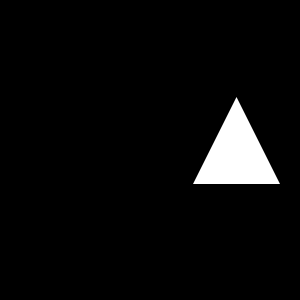triangle: (193, 97, 280, 184)
